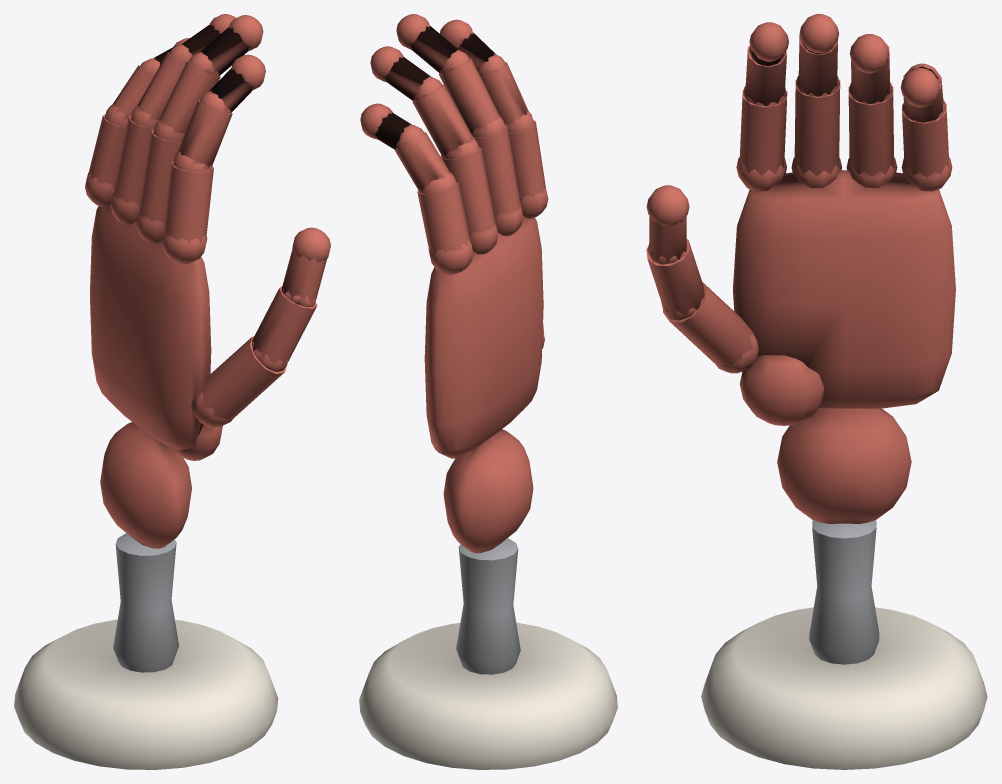
The model's file is nd_wooden_hand.glb.
3 renders of one model, left to right at view 1: azimuth 30°, elevation 25°; view 2: azimuth 150°, elevation 25°; view 3: azimuth 270°, elevation 25°, orthographic. The views are drawn at different scales.
Parts seen in each view (by area): view 1: PART; view 2: PART; view 3: PART.
Boxes of the visible parts, x1=… form: PART: x1=14, y1=14, x2=330, y2=769; PART: x1=359, y1=14, x2=617, y2=769; PART: x1=646, y1=14, x2=987, y2=769.
Size of the model in its own units: 0.1364 by 0.39 by 0.1625.
